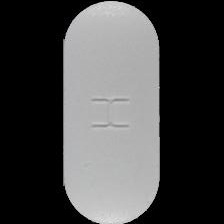66267-146: (0, 0, 224, 224)
